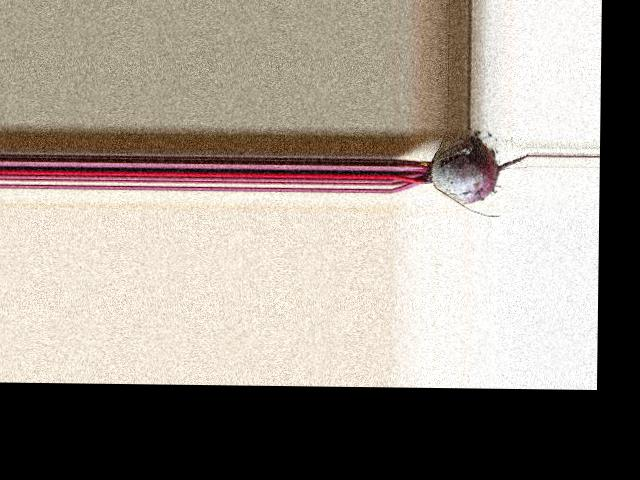beet: (392, 136, 529, 217)
